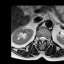CCS_normal: (41, 34, 43, 44)
LFS_normal: (46, 34, 48, 42)
LLS_normal: (43, 34, 46, 42)
RFS_normal: (37, 34, 39, 41)
RLS_normal: (39, 34, 41, 42)
